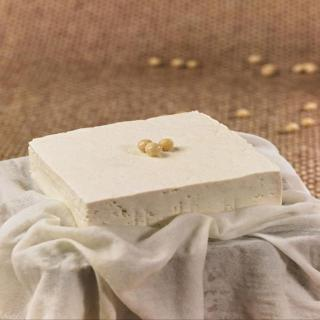Tahu: (14, 95, 294, 234)
